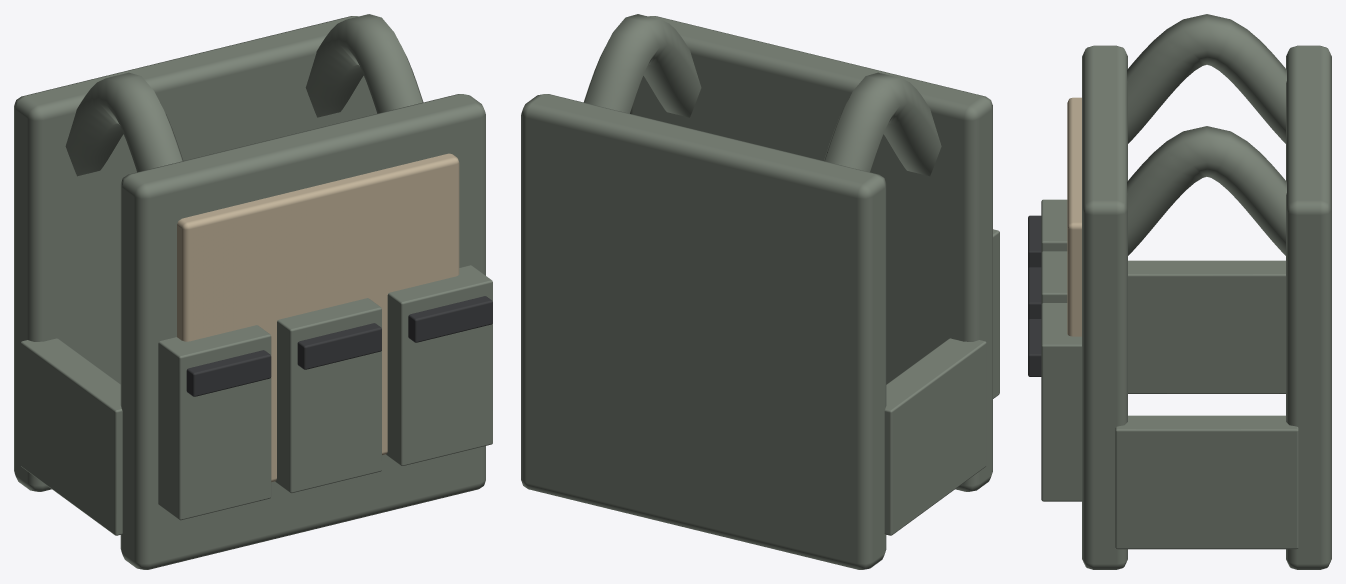
File: fps-weapon-set-and-firing-range-plate-carrier-beeb0c3c__19532.glb
The picture shows the model from 3 angles, left to right: view 1: azimuth 30°, elevation 25°; view 2: azimuth 150°, elevation 25°; view 3: azimuth 270°, elevation 25°; orthographic projection. The views are drawn at different scales.
Visible parts, largest first — view 1: plate-carrier; view 2: plate-carrier; view 3: plate-carrier.
Part boxes in pixels (box(x1,y1,x2,y2)): plate-carrier: box(14, 14, 492, 569); plate-carrier: box(521, 14, 999, 569); plate-carrier: box(1028, 14, 1331, 569).
Bounding box in the file's own units: 0.395 × 0.4517 × 0.298.
